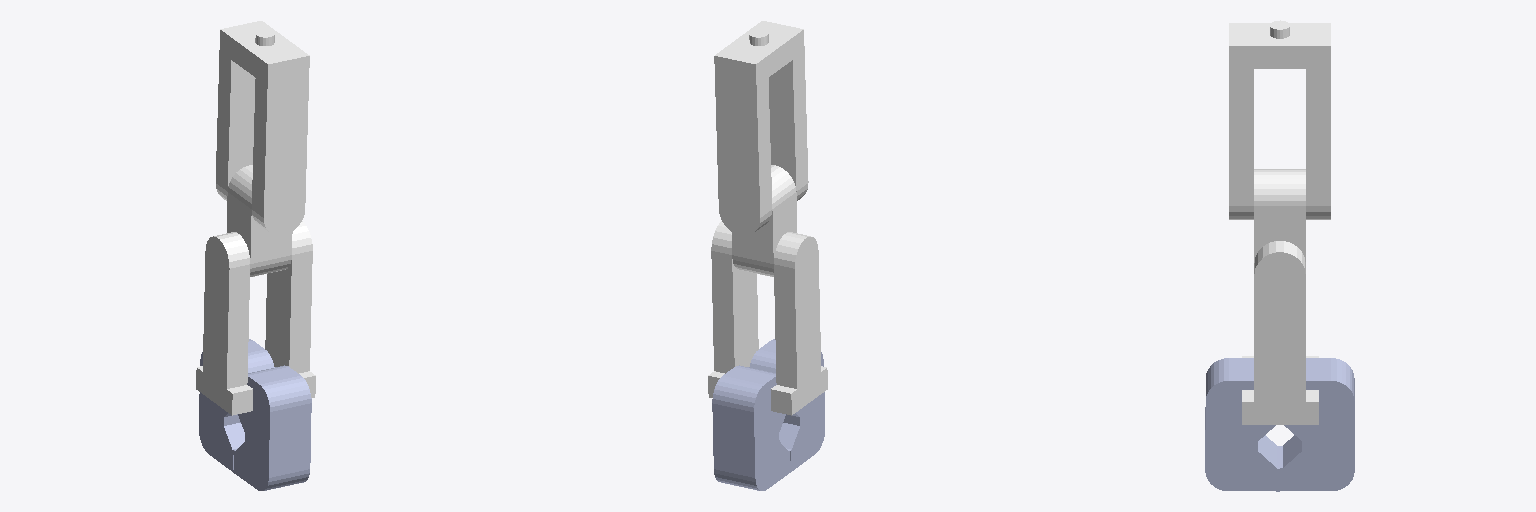
robot.urdf — claw4:
<?xml version="1.0" encoding="utf-8"?>
<!-- This URDF was automatically created by SolidWorks to URDF Exporter! Originally created by Stephen Brawner (brawner@gmail.com) 
     Commit Version: 1.5.1-0-g916b5db  Build Version: 1.5.7152.31018
     For more information, please see http://wiki.ros.org/sw_urdf_exporter -->
<robot
  name="claw4">
  <link
    name="P_base_Link">
    <inertial>
      <origin
        xyz="-0.00628475211178409 4.44089209850063E-16 -0.201786859514905"
        rpy="0 0 0" />
      <mass
        value="6.45985390928753" />
      <inertia
        ixx="0.0831917714950416"
        ixy="7.75204553327136E-18"
        ixz="-0.00141801465827444"
        iyy="0.0556863824606013"
        iyz="-4.77048955893622E-18"
        izz="0.0377072153961648" />
    </inertial>
    <visual>
      <origin
        xyz="0 0 0"
        rpy="0 0 0" />
      <geometry>
        <mesh
          filename="../meshes/P_base_Link.STL" />
      </geometry>
      <material
        name="">
        <color
          rgba="1 1 1 0.5" />
      </material>
    </visual>
    <collision>
      <origin
        xyz="0 0 0"
        rpy="0 0 0" />
      <geometry>
        <mesh
          filename="../meshes/P_base_Link.STL" />
      </geometry>
    </collision>
  </link>
  <link
    name="P_1_Link">
    <inertial>
      <origin
        xyz="-0.0624987281243594 0.000398726519576453 -1.11022302462516E-16"
        rpy="0 0 0" />
      <mass
        value="2.29977871437822" />
      <inertia
        ixx="0.00397637847664011"
        ixy="3.79971497935494E-05"
        ixz="-5.85469173142172E-18"
        iyy="0.00993203169150051"
        iyz="3.3881317890172E-21"
        izz="0.00993227410397426" />
    </inertial>
    <visual>
      <origin
        xyz="0 0 0"
        rpy="0 0 0" />
      <geometry>
        <mesh
          filename="../meshes/P_1_Link.STL" />
      </geometry>
      <material
        name="">
        <color
          rgba="1 1 1 0.5" />
      </material>
    </visual>
    <collision>
      <origin
        xyz="0 0 0"
        rpy="0 0 0" />
      <geometry>
        <mesh
          filename="../meshes/P_1_Link.STL" />
      </geometry>
    </collision>
  </link>
  <joint
    name="P_base_to_1_Link"
    type="revolute">
    <origin
      xyz="-0.0115182488057926 0 -0.369820672684002"
      rpy="-1.57079632679488 -1.53966089433424 0" />
    <parent
      link="P_base_Link" />
    <child
      link="P_1_Link" />
    <axis
      xyz="0 0 1" />
    <limit
      lower="-3.14"
      upper="3.14"
      effort="100"
      velocity="10" />
  </joint>
  <link
    name="P_2_Link">
    <inertial>
      <origin
        xyz="0.0261395676013935 0.156837405589298 -1.56419321939438E-12"
        rpy="0 0 0" />
      <mass
        value="6.27444678594553" />
      <inertia
        ixx="0.113519091227121"
        ixy="-0.0123362492990608"
        ixz="-1.57344840281959E-16"
        iyy="0.0415576369785267"
        iyz="-8.678178652305E-16"
        izz="0.0901215297519561" />
    </inertial>
    <visual>
      <origin
        xyz="0 0 0"
        rpy="0 0 0" />
      <geometry>
        <mesh
          filename="../meshes/P_2_Link.STL" />
      </geometry>
      <material
        name="">
        <color
          rgba="1 1 1 0.5" />
      </material>
    </visual>
    <collision>
      <origin
        xyz="0 0 0"
        rpy="0 0 0" />
      <geometry>
        <mesh
          filename="../meshes/P_2_Link.STL" />
      </geometry>
    </collision>
  </link>
  <joint
    name="P_1_to_2_Link"
    type="revolute">
    <origin
      xyz="-0.12499745623252 0.000797453040616403 0"
      rpy="1.57079632679489 1.40484650611732 3.13521298600109" />
    <parent
      link="P_1_Link" />
    <child
      link="P_2_Link" />
    <axis
      xyz="0 0 -1" />
    <limit
      lower="-3.14"
      upper="3.14"
      effort="100"
      velocity="10" />
  </joint>
  <link
    name="P_left_Link">
    <inertial>
      <origin
        xyz="-0.0809751632854803 -0.0295273983259575 -5.96189764223709E-14"
        rpy="0 0 0" />
      <mass
        value="3.97303178078042" />
      <inertia
        ixx="0.0092436764101862"
        ixy="0.000875601215844088"
        ixz="-3.91764384808139E-17"
        iyy="0.0219901149960342"
        iyz="1.40268656065312E-18"
        izz="0.0246120717715863" />
    </inertial>
    <visual>
      <origin
        xyz="0 0 0"
        rpy="0 0 0" />
      <geometry>
        <mesh
          filename="../meshes/P_left_Link.STL" />
      </geometry>
      <material
        name="">
        <color
          rgba="0.792156862745098 0.819607843137255 0.933333333333333 1" />
      </material>
    </visual>
    <collision>
      <origin
        xyz="0 0 0"
        rpy="0 0 0" />
      <geometry>
        <mesh
          filename="../meshes/P_left_Link.STL" />
      </geometry>
    </collision>
  </link>
  <joint
    name="P_2_to_left_Link"
    type="revolute">
    <origin
      xyz="0 0.304138126533306 0"
      rpy="0 0 -1.73594500420734" />
    <parent
      link="P_2_Link" />
    <child
      link="P_left_Link" />
    <axis
      xyz="-0.27331661527534 0.000218965812425212 0.961924102966759" />
    <limit
      lower="-3.14"
      upper="3.14"
      effort="500000000"
      velocity="10" />
  </joint>
  <link
    name="P_right_Link">
    <inertial>
      <origin
        xyz="0.0790158483396702 0.0344287675187634 1.11022302462516E-16"
        rpy="0 0 0" />
      <mass
        value="3.97303178078042" />
      <inertia
        ixx="0.00918444236413519"
        ixy="9.02534586345444E-05"
        ixz="-1.82874413312203E-18"
        iyy="0.0220493490420852"
        iyz="-8.16539761153146E-19"
        izz="0.0246120717715864" />
    </inertial>
    <visual>
      <origin
        xyz="0 0 0"
        rpy="0 0 0" />
      <geometry>
        <mesh
          filename="../meshes/P_right_Link.STL" />
      </geometry>
      <material
        name="">
        <color
          rgba="0.792156862745098 0.819607843137255 0.933333333333333 1" />
      </material>
    </visual>
    <collision>
      <origin
        xyz="0 0 0"
        rpy="0 0 0" />
      <geometry>
        <mesh
          filename="../meshes/P_right_Link.STL" />
      </geometry>
    </collision>
  </link>
  <joint
    name="P_2_to_right_Link"
    type="revolute">
    <origin
      xyz="0.098639392383322 0.287698227802974 0"
      rpy="-3.14159265358979 0 1.46107220226766" />
    <parent
      link="P_2_Link" />
    <child
      link="P_right_Link" />
    <axis
      xyz="-0.272884794791439 -0.015359326262194 0.96192410296676" />
    <limit
      lower="-3.14"
      upper="3.14"
      effort="500000000"
      velocity="10" />
  </joint>
</robot>

--- Render facts (derived) ---
Views: 3 orthographic renders of the robot side by side, from view 1: azimuth 30°, elevation 25°; view 2: azimuth 150°, elevation 25°; view 3: azimuth 270°, elevation 25°.
Robot: claw4 — 5 links, 4 joints (4 revolute); root link P_base_Link; default pose: all joints at 0.
Visible links, largest first — view 1: P_base_Link, P_2_Link, P_right_Link, P_1_Link, P_left_Link; view 2: P_base_Link, P_2_Link, P_left_Link, P_1_Link, P_right_Link; view 3: P_base_Link, P_2_Link, P_right_Link, P_left_Link, P_1_Link.
Link boxes in pixels (x1,y1,x2,y2): P_base_Link: (216, 21, 309, 235); P_2_Link: (196, 221, 315, 415); P_right_Link: (233, 365, 311, 490); P_1_Link: (227, 165, 292, 276); P_left_Link: (199, 339, 274, 471); P_base_Link: (714, 21, 808, 235); P_2_Link: (708, 221, 827, 415); P_left_Link: (712, 365, 790, 490); P_1_Link: (732, 165, 796, 276); P_right_Link: (749, 339, 824, 471); P_base_Link: (1229, 20, 1330, 219); P_2_Link: (1242, 241, 1318, 424); P_right_Link: (1205, 358, 1279, 491); P_left_Link: (1280, 358, 1354, 490); P_1_Link: (1254, 169, 1305, 262).
Bounding box of the posed robot: 0.2092 × 0.2911 × 0.9918 m (x, y, z).
Meshes: 5 distinct files referenced, 5 mesh visuals loaded (5 binary STL).
